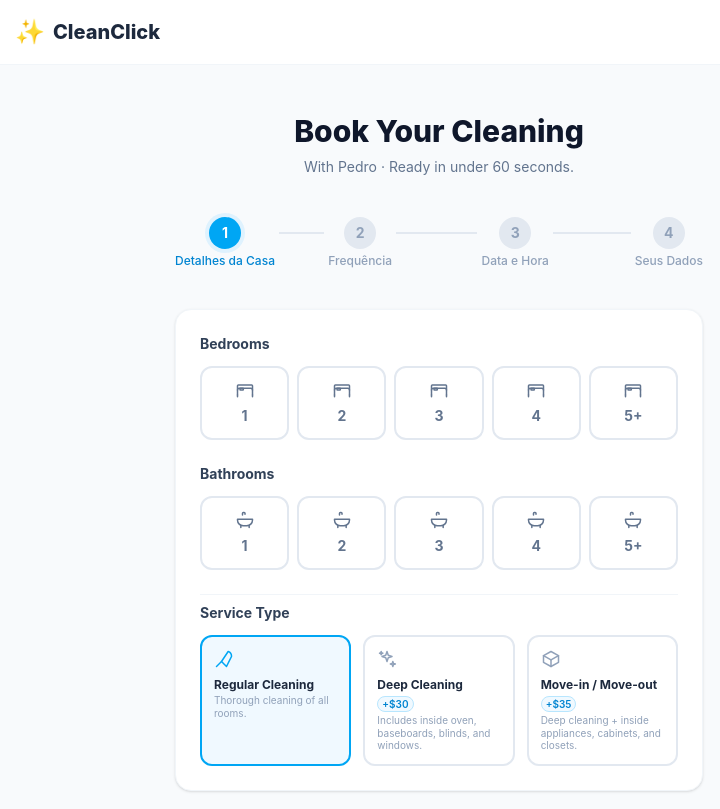
Test: Step 1 — Frequency (Stitch similarity) › exibe 4 opções de frequência
Click the button "2" below "Bedrooms" at (342, 403), box left=297, top=366, right=386, bottom=440
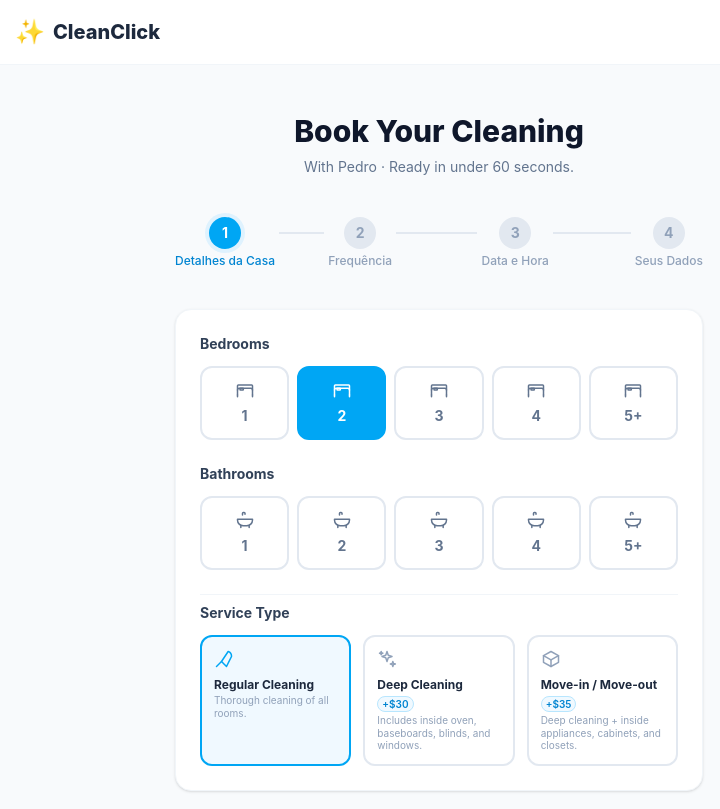
Click the button "2" below "Bathrooms" at (342, 533), box left=297, top=496, right=386, bottom=570
(page scrolled)
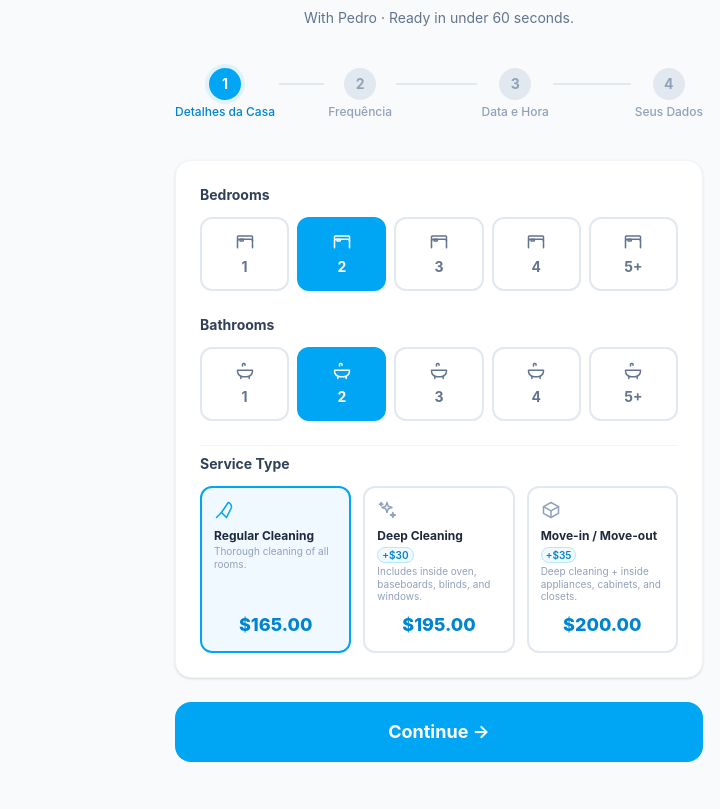
Click the button "Continue →" at (439, 732), box left=175, top=702, right=703, bottom=762
(page scrolled)
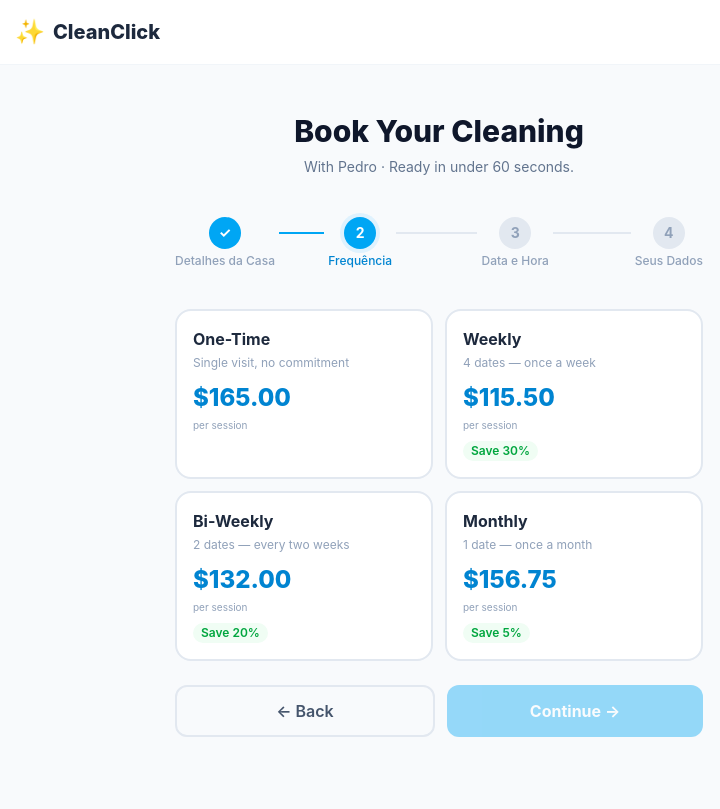
Check: the text "One-Time" is shown, box left=193, top=327, right=270, bottom=351
Check: the text "Weekly" is shown, box left=463, top=327, right=521, bottom=351
Check: the text "Bi-Weekly" is shown, box left=193, top=509, right=273, bottom=533
